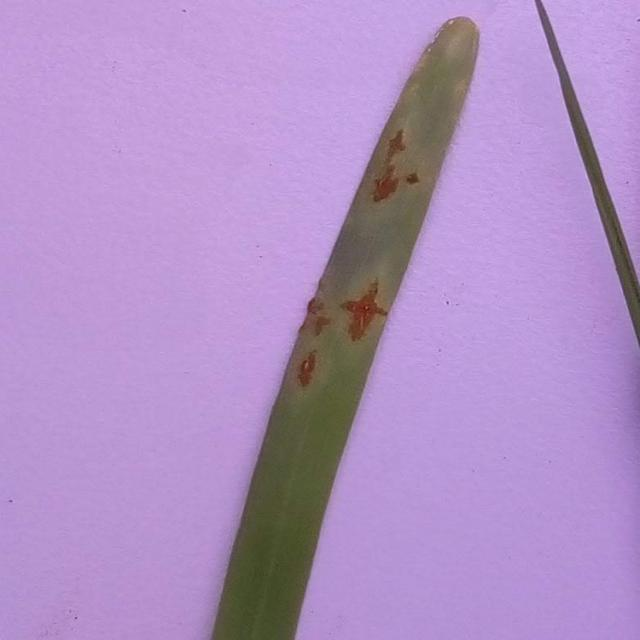wheat-stemrust: (340, 276, 389, 340), (372, 164, 398, 202), (310, 297, 332, 335), (299, 350, 318, 386), (390, 130, 406, 157), (406, 173, 418, 184)
